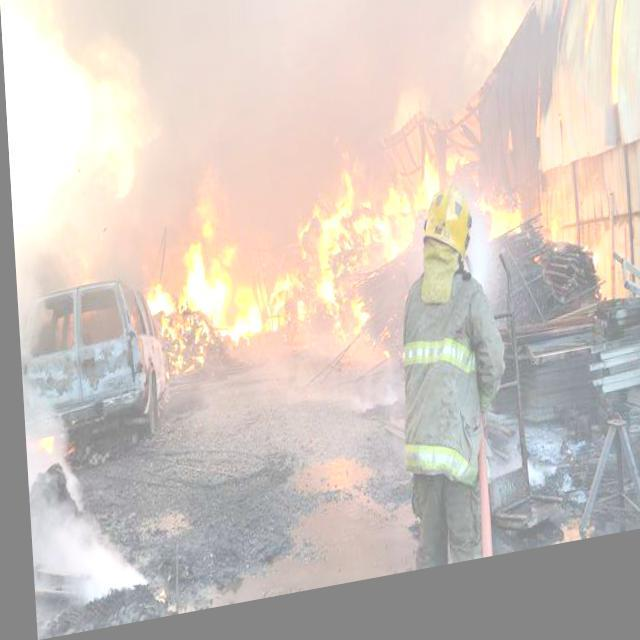Fire: (148, 144, 532, 378), (0, 0, 138, 231)
